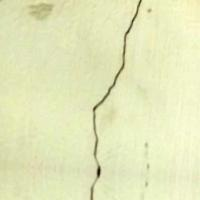crack: (73, 0, 156, 199)
